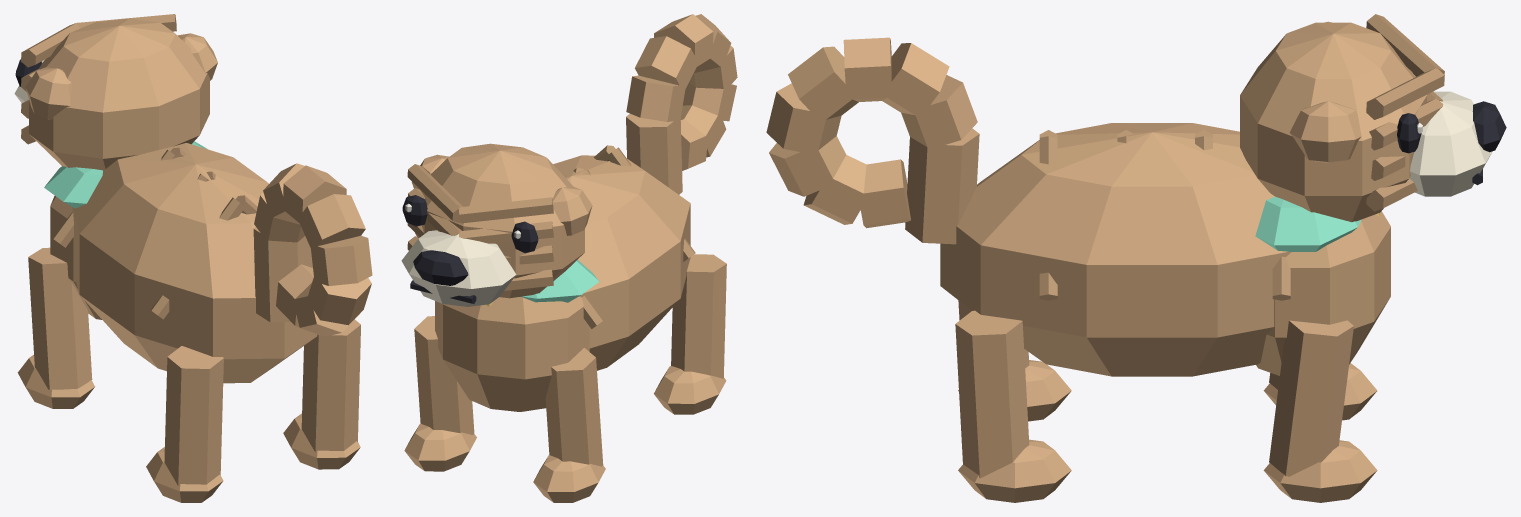
Rendered from shar_pei.glb.
3 views of the same model, side by side, from view 1: azimuth 30°, elevation 25°; view 2: azimuth 150°, elevation 25°; view 3: azimuth 270°, elevation 25° (orthographic). The views are drawn at different scales.
Visible parts, largest first — view 1: BodyMesh, HeadMesh; view 2: BodyMesh, HeadMesh; view 3: BodyMesh, HeadMesh.
Part boxes in pixels (x1=…): BodyMesh: x1=17, y1=141, x2=372, y2=502; HeadMesh: x1=14, y1=14, x2=217, y2=170; BodyMesh: x1=404, y1=14, x2=737, y2=502; HeadMesh: x1=401, y1=143, x2=592, y2=306; BodyMesh: x1=766, y1=37, x2=1390, y2=502; HeadMesh: x1=1240, y1=14, x2=1506, y2=222.
Bounding box in the file's own units: 0.528 × 0.905 × 1.43.
